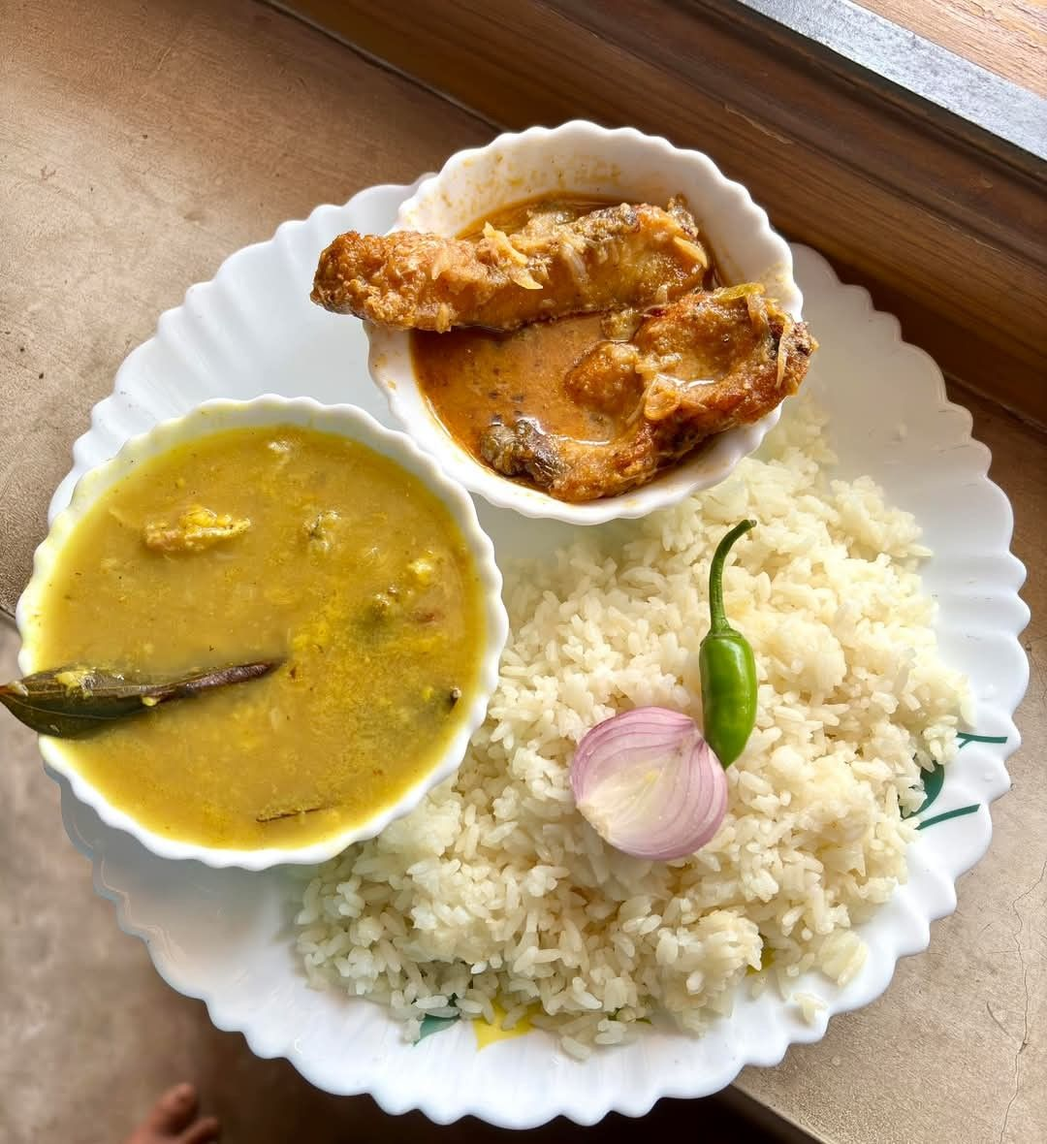bhat: (303, 427, 931, 1037)
dal: (45, 433, 484, 837)
